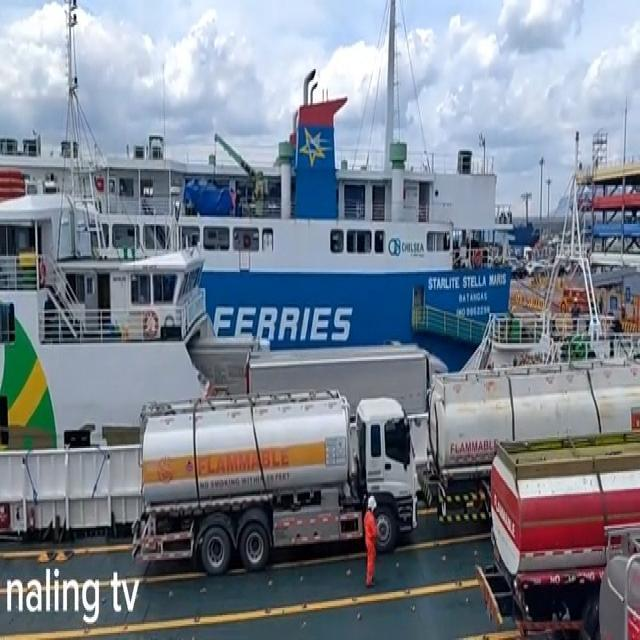truck: (132, 384, 418, 571), (430, 354, 640, 528), (475, 430, 640, 635)
